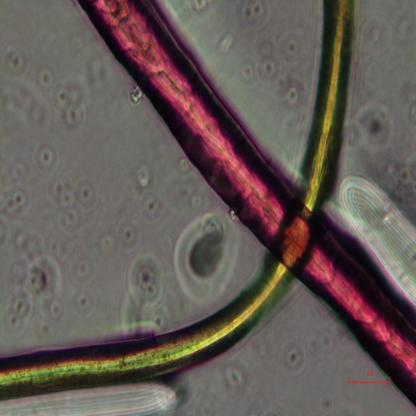Air bubble: (337, 171, 416, 299), (0, 379, 176, 416)
Background material: (8, 227, 66, 337), (173, 213, 236, 307), (119, 251, 172, 336), (258, 36, 306, 107), (37, 68, 87, 132), (50, 173, 95, 232), (344, 102, 394, 150), (0, 157, 33, 222), (382, 161, 416, 224), (172, 158, 207, 216), (82, 52, 113, 112), (359, 24, 389, 83), (132, 166, 164, 220), (71, 254, 96, 318), (99, 220, 140, 254), (277, 335, 308, 377), (396, 68, 416, 120), (307, 324, 337, 358), (236, 1, 271, 29), (221, 362, 249, 396), (3, 46, 31, 76), (34, 141, 59, 174), (236, 57, 256, 86), (218, 31, 234, 56), (129, 84, 144, 107), (319, 394, 334, 413), (192, 2, 214, 14)
Hair textile: (78, 0, 416, 405)
Microfibre: (0, 248, 299, 401), (288, 1, 356, 248)
